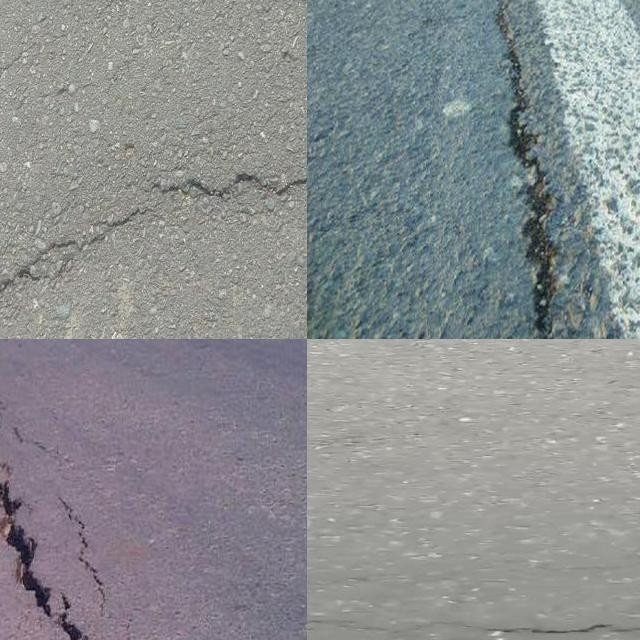Melintang: (0, 156, 307, 308), (471, 608, 640, 640)
Memanjang: (485, 0, 580, 339), (0, 454, 99, 640)
